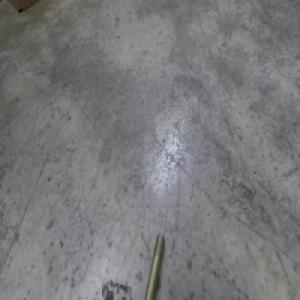Bolt: (144, 236, 164, 300)
